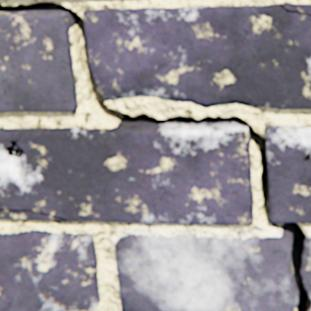brick: (0, 126, 253, 224), (84, 3, 310, 108), (0, 229, 100, 310), (0, 13, 78, 111), (265, 124, 310, 222), (0, 209, 65, 220)
broken_brick: (115, 233, 297, 310), (300, 236, 310, 297)
crack: (0, 1, 310, 310), (0, 207, 68, 220), (280, 5, 310, 15), (8, 139, 24, 156), (303, 153, 309, 159)
